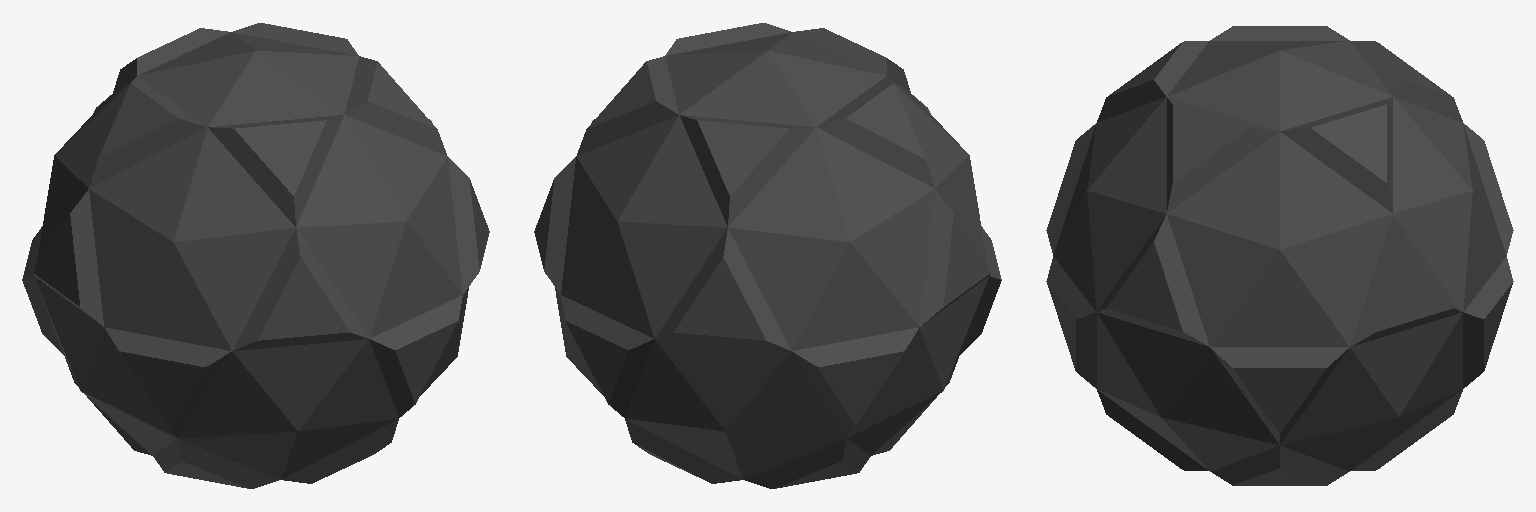
Rendered from ball.obj.
The picture shows the model from 3 angles: view 1: azimuth 30°, elevation 25°; view 2: azimuth 150°, elevation 25°; view 3: azimuth 270°, elevation 25°; orthographic projection.
Parts seen in each view (by area): view 1: Icosphere_Icosphere.001; view 2: Icosphere_Icosphere.001; view 3: Icosphere_Icosphere.001.
Boxes of the visible parts, box(x1,y1,x2,y2) form: Icosphere_Icosphere.001: box(22, 23, 489, 488); Icosphere_Icosphere.001: box(534, 23, 1001, 488); Icosphere_Icosphere.001: box(1046, 26, 1513, 485).
Bounding box in the file's own units: 2.03 × 2 × 2.06.